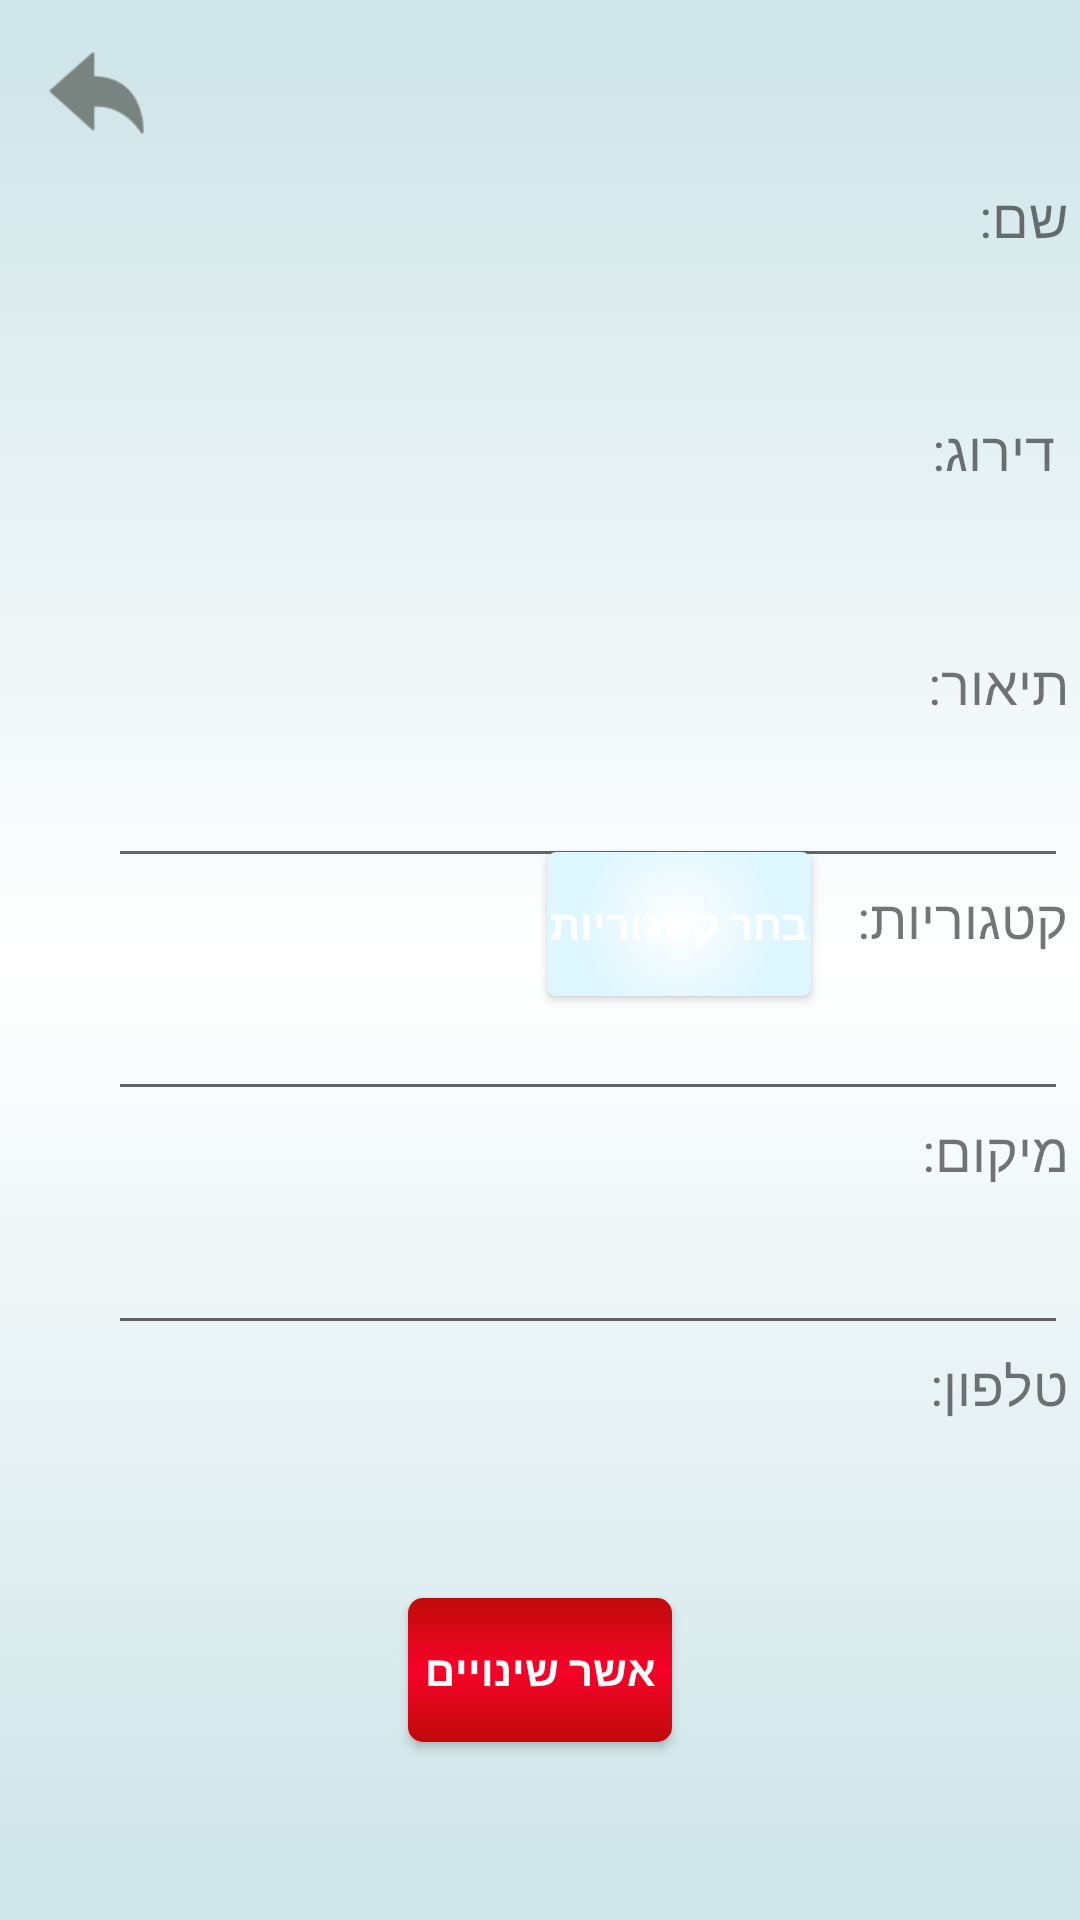

Icons on this 1080*1920 Android screen, each with the point to tap as [x,y]:
back button: [96,93]
